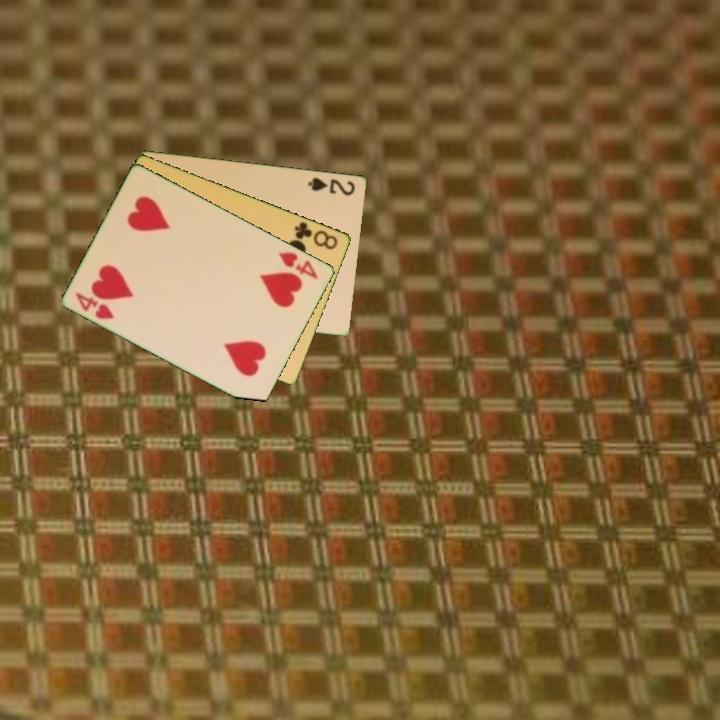2s: (305, 174, 358, 198)
4h: (275, 248, 322, 282), (72, 289, 117, 322)
8c: (291, 218, 341, 252)
